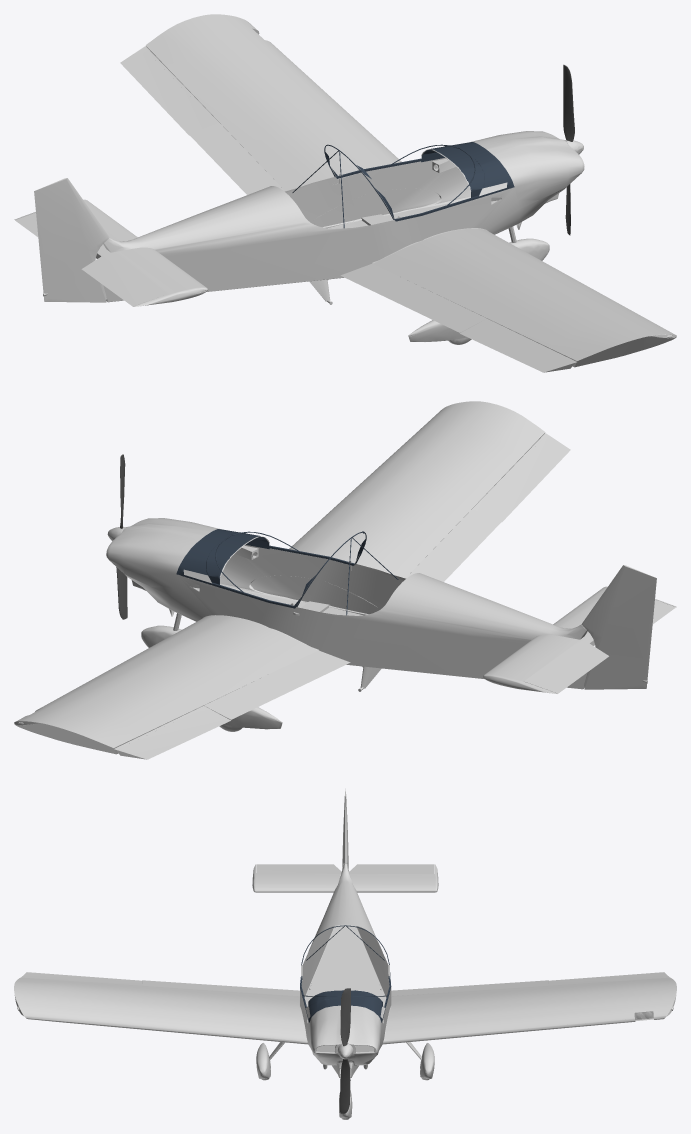
3 views of the same model, one above another, from view 1: azimuth 30°, elevation 25°; view 2: azimuth 150°, elevation 25°; view 3: azimuth 270°, elevation 25° (orthographic). The views are drawn at different scales.
Visible parts, largest first — view 1: body, glass, spin; view 2: body, glass, spin; view 3: body, glass, spin.
Part boxes in pixels (x1,y1,x2,y2): body: (14,14,676,372); glass: (292,142,514,228); spin: (563,64,574,235); body: (14,401,676,759); glass: (176,529,398,615); spin: (116,454,127,619); body: (14,788,676,1119); glass: (300,925,391,1022); spin: (340,988,350,1113).
Size of the model in its own units: 1.58 by 0.5775 by 2.2.
